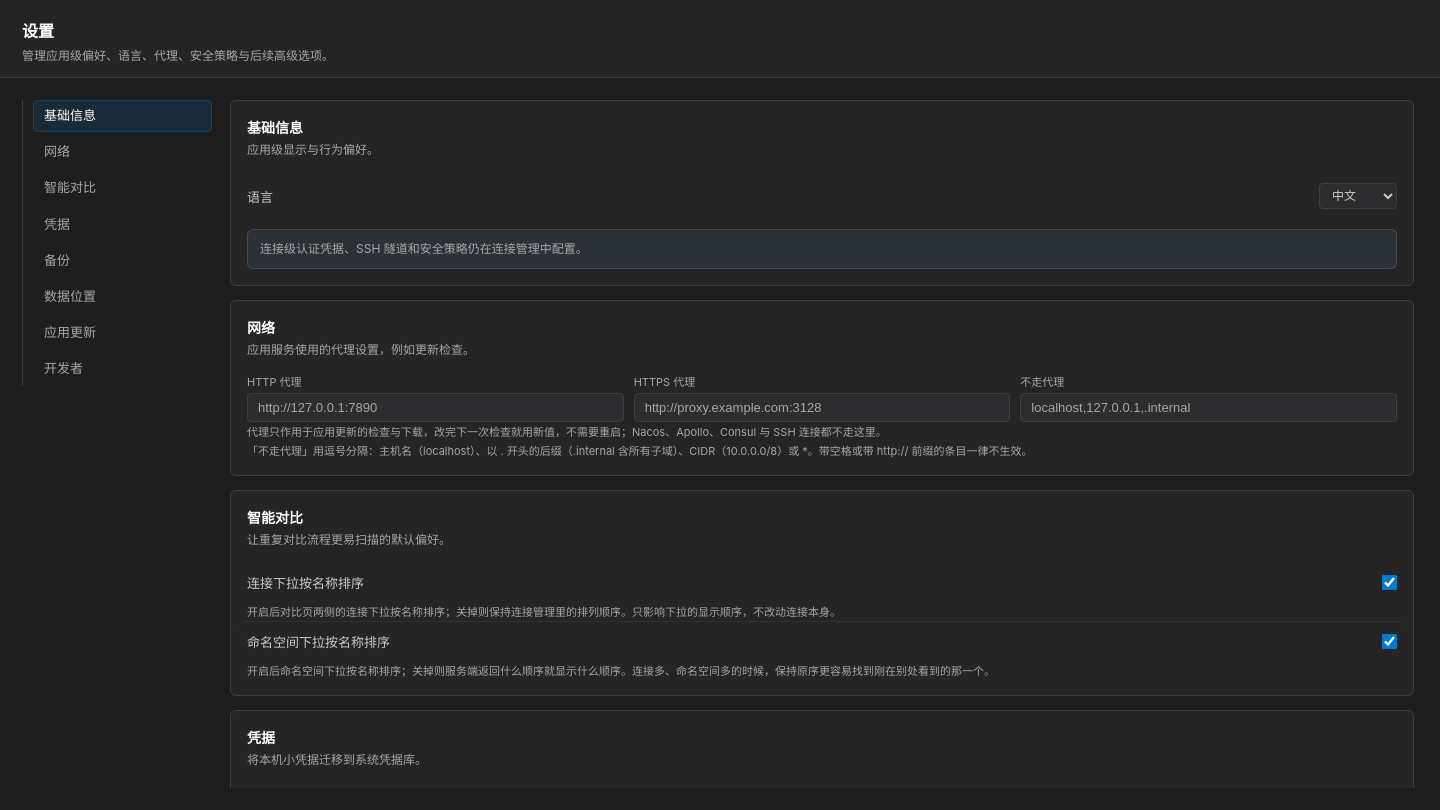
Scenario: SettingsView › 「不走代理」逐项归一，出错那一项被点名而不是整框静默作废
In the field labelled "不走代理": (1209, 408) [1020, 393, 1397, 422], type " *.corp.example.com , localhost , http://x "
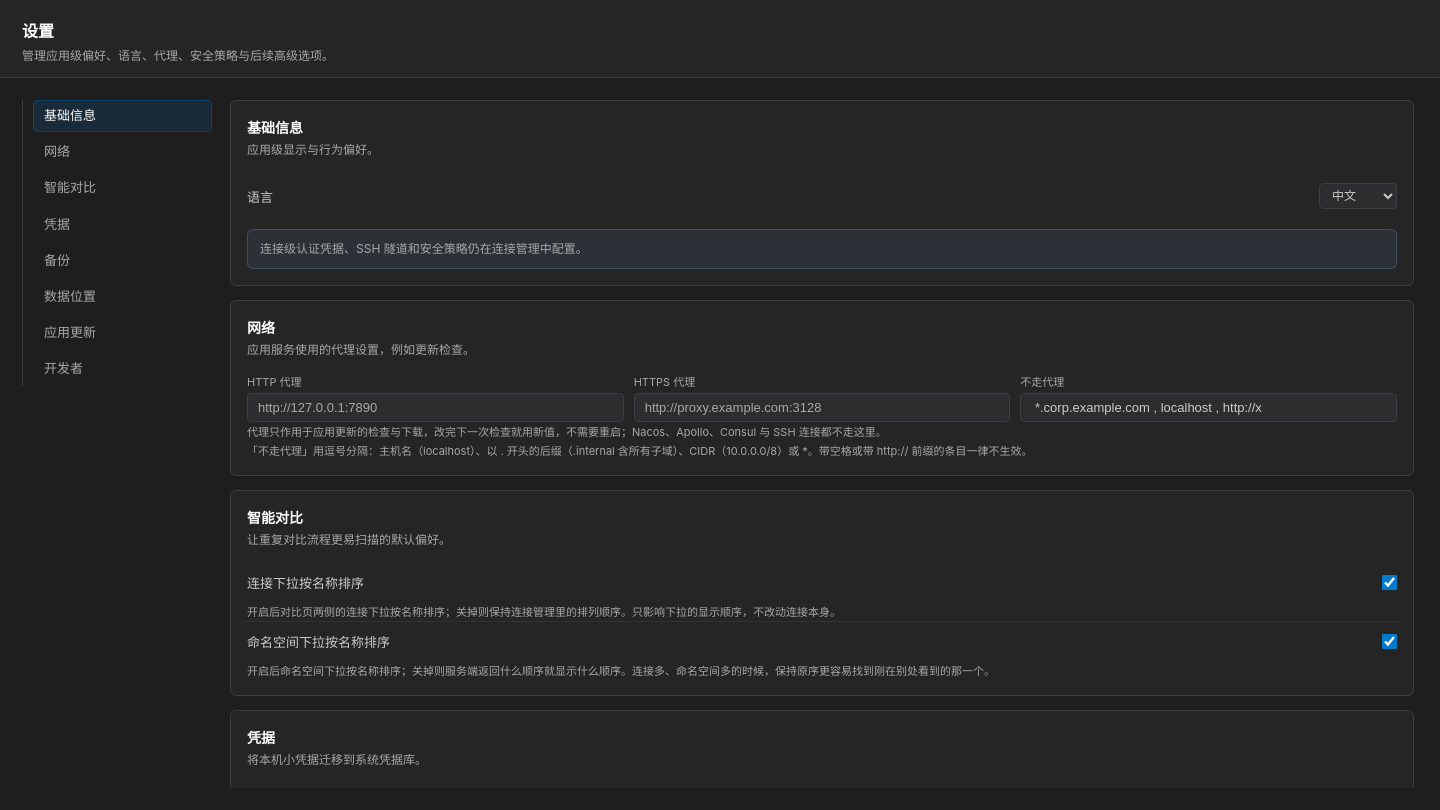
Leave the field labelled "不走代理", box [1020, 393, 1397, 422]
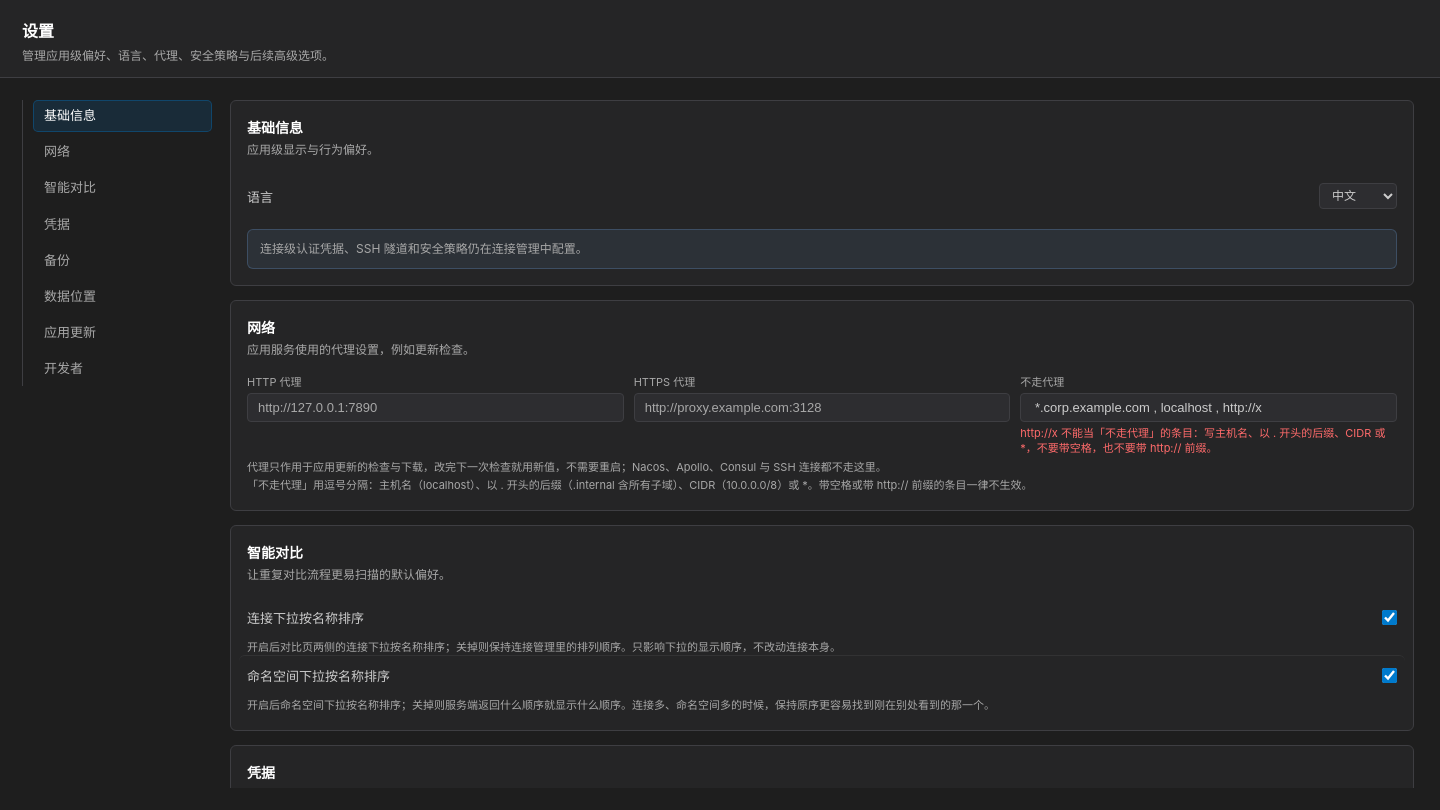
expect the message shows "http://x 不能当「不走代理」的条目": met, box [1020, 426, 1385, 455]
Replace the text in the field labelled "不走代理" with " *.corp.example.com , localhost ": (1209, 408) [1020, 393, 1397, 422]
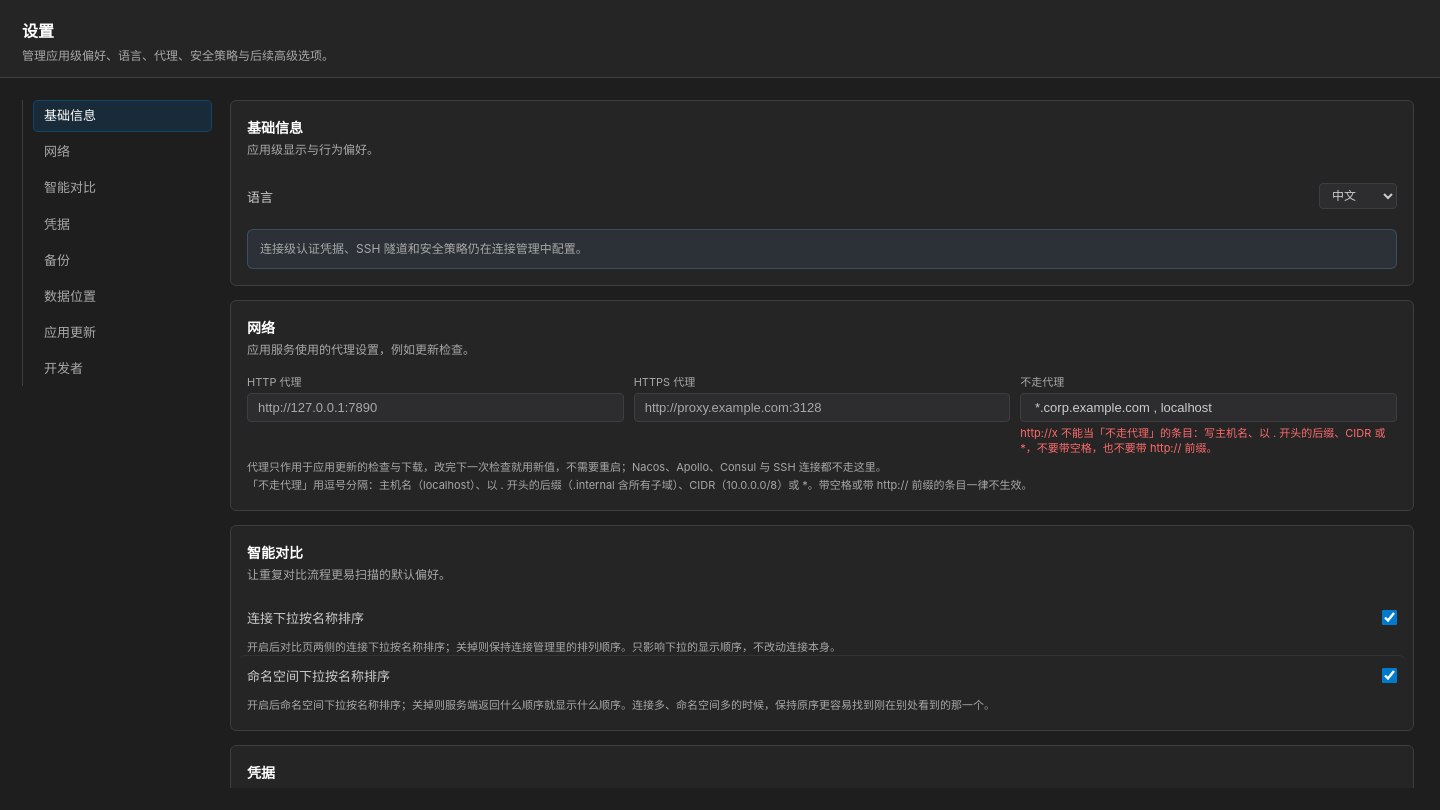
Leave the field labelled "不走代理", box [1020, 393, 1397, 422]
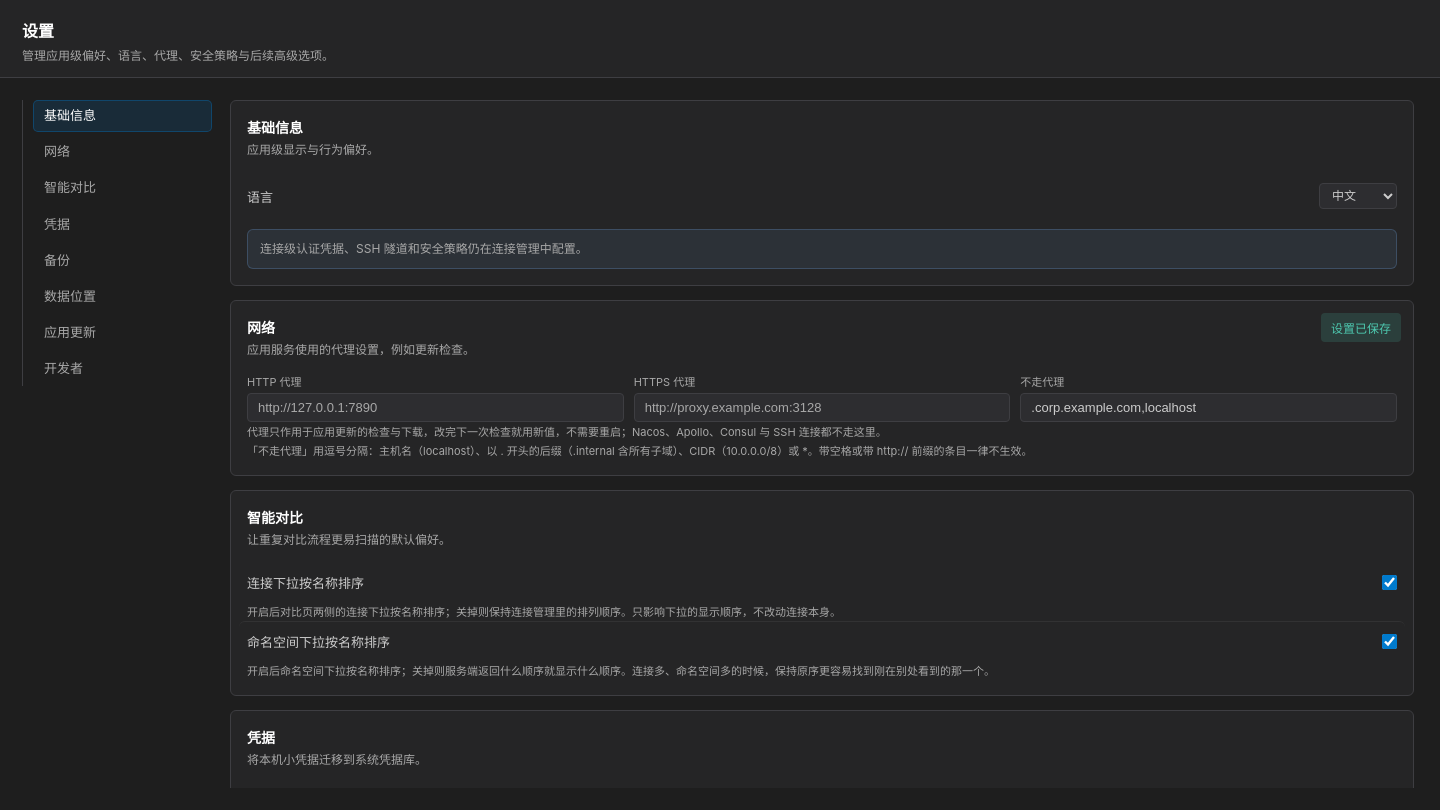
expect the field labelled "不走代理" holds ".corp.example.com,localhost": met, box [1020, 393, 1397, 422]
